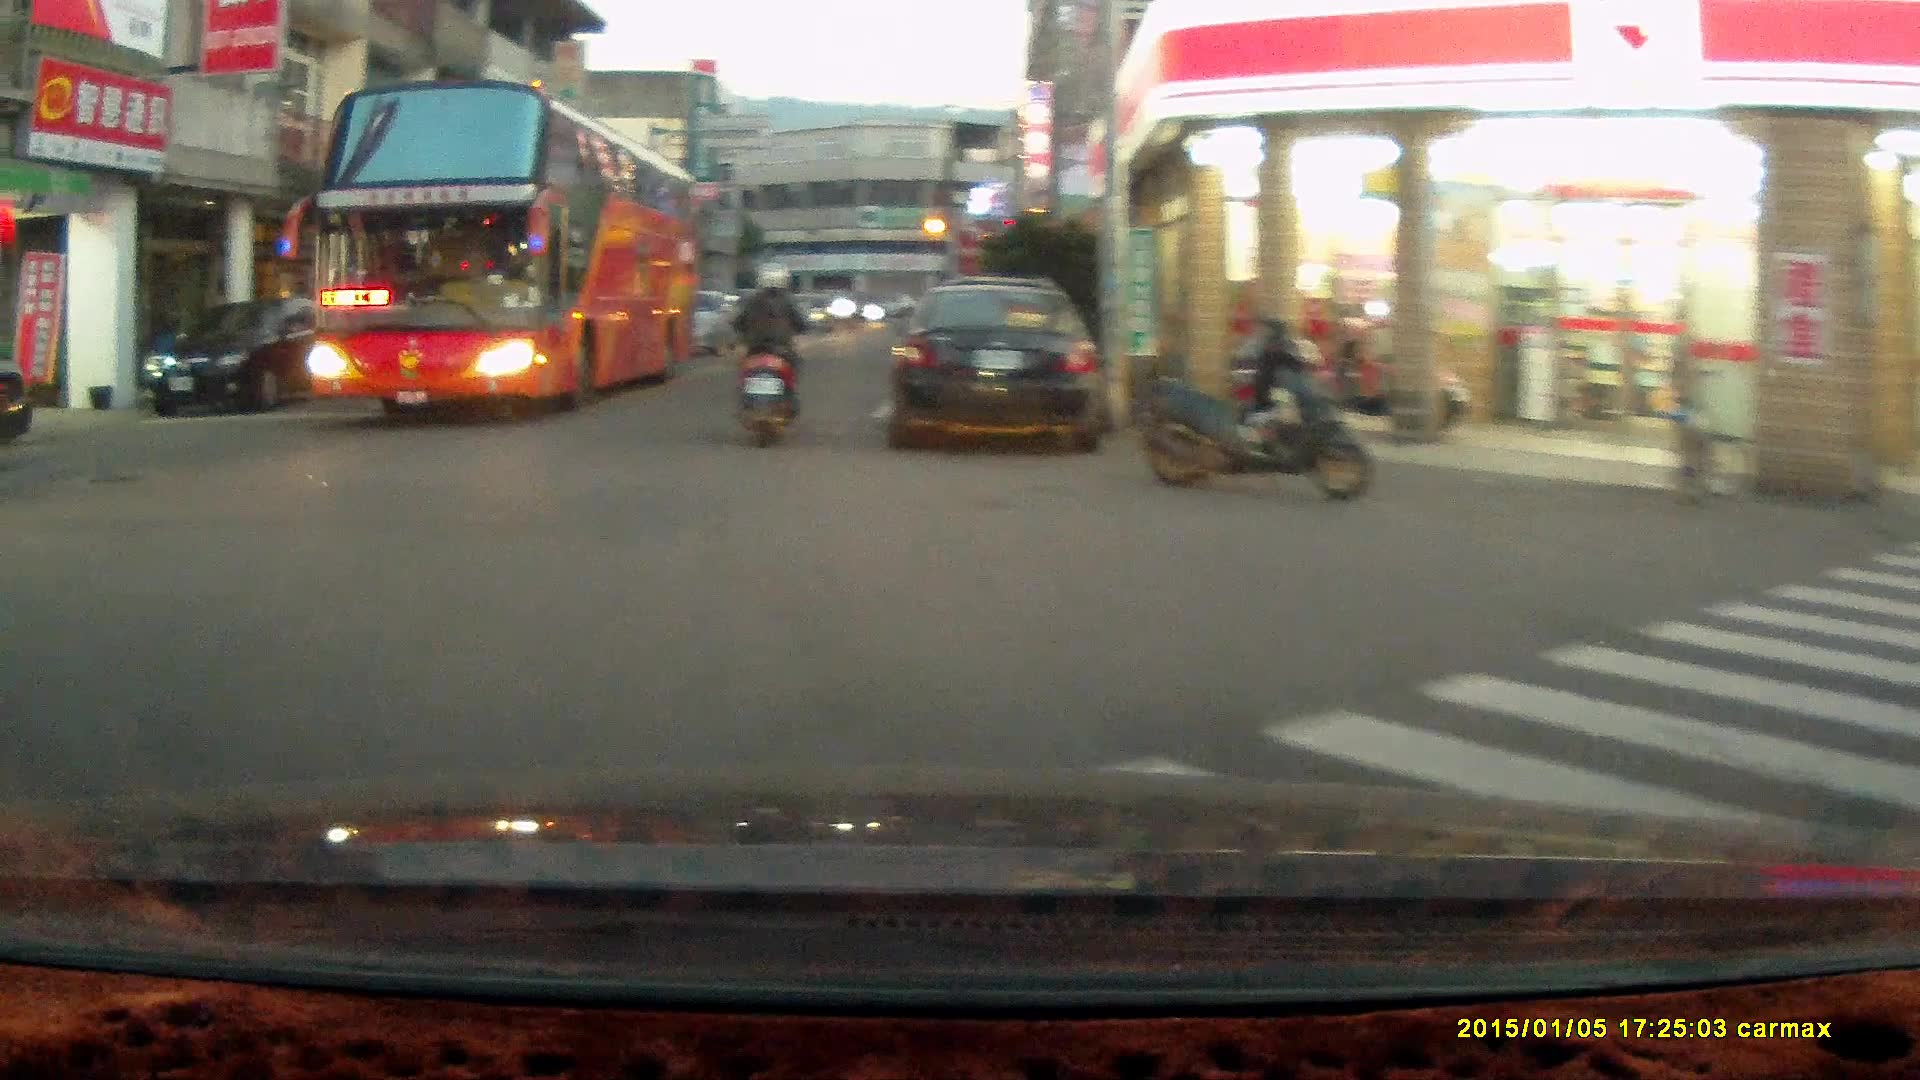rider: (718, 264, 802, 454)
vehicle: (300, 85, 707, 423), (883, 280, 1111, 453), (143, 297, 348, 410)
